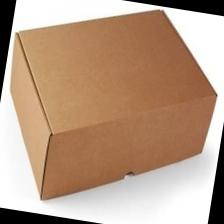Kertas: (10, 10, 216, 199)
